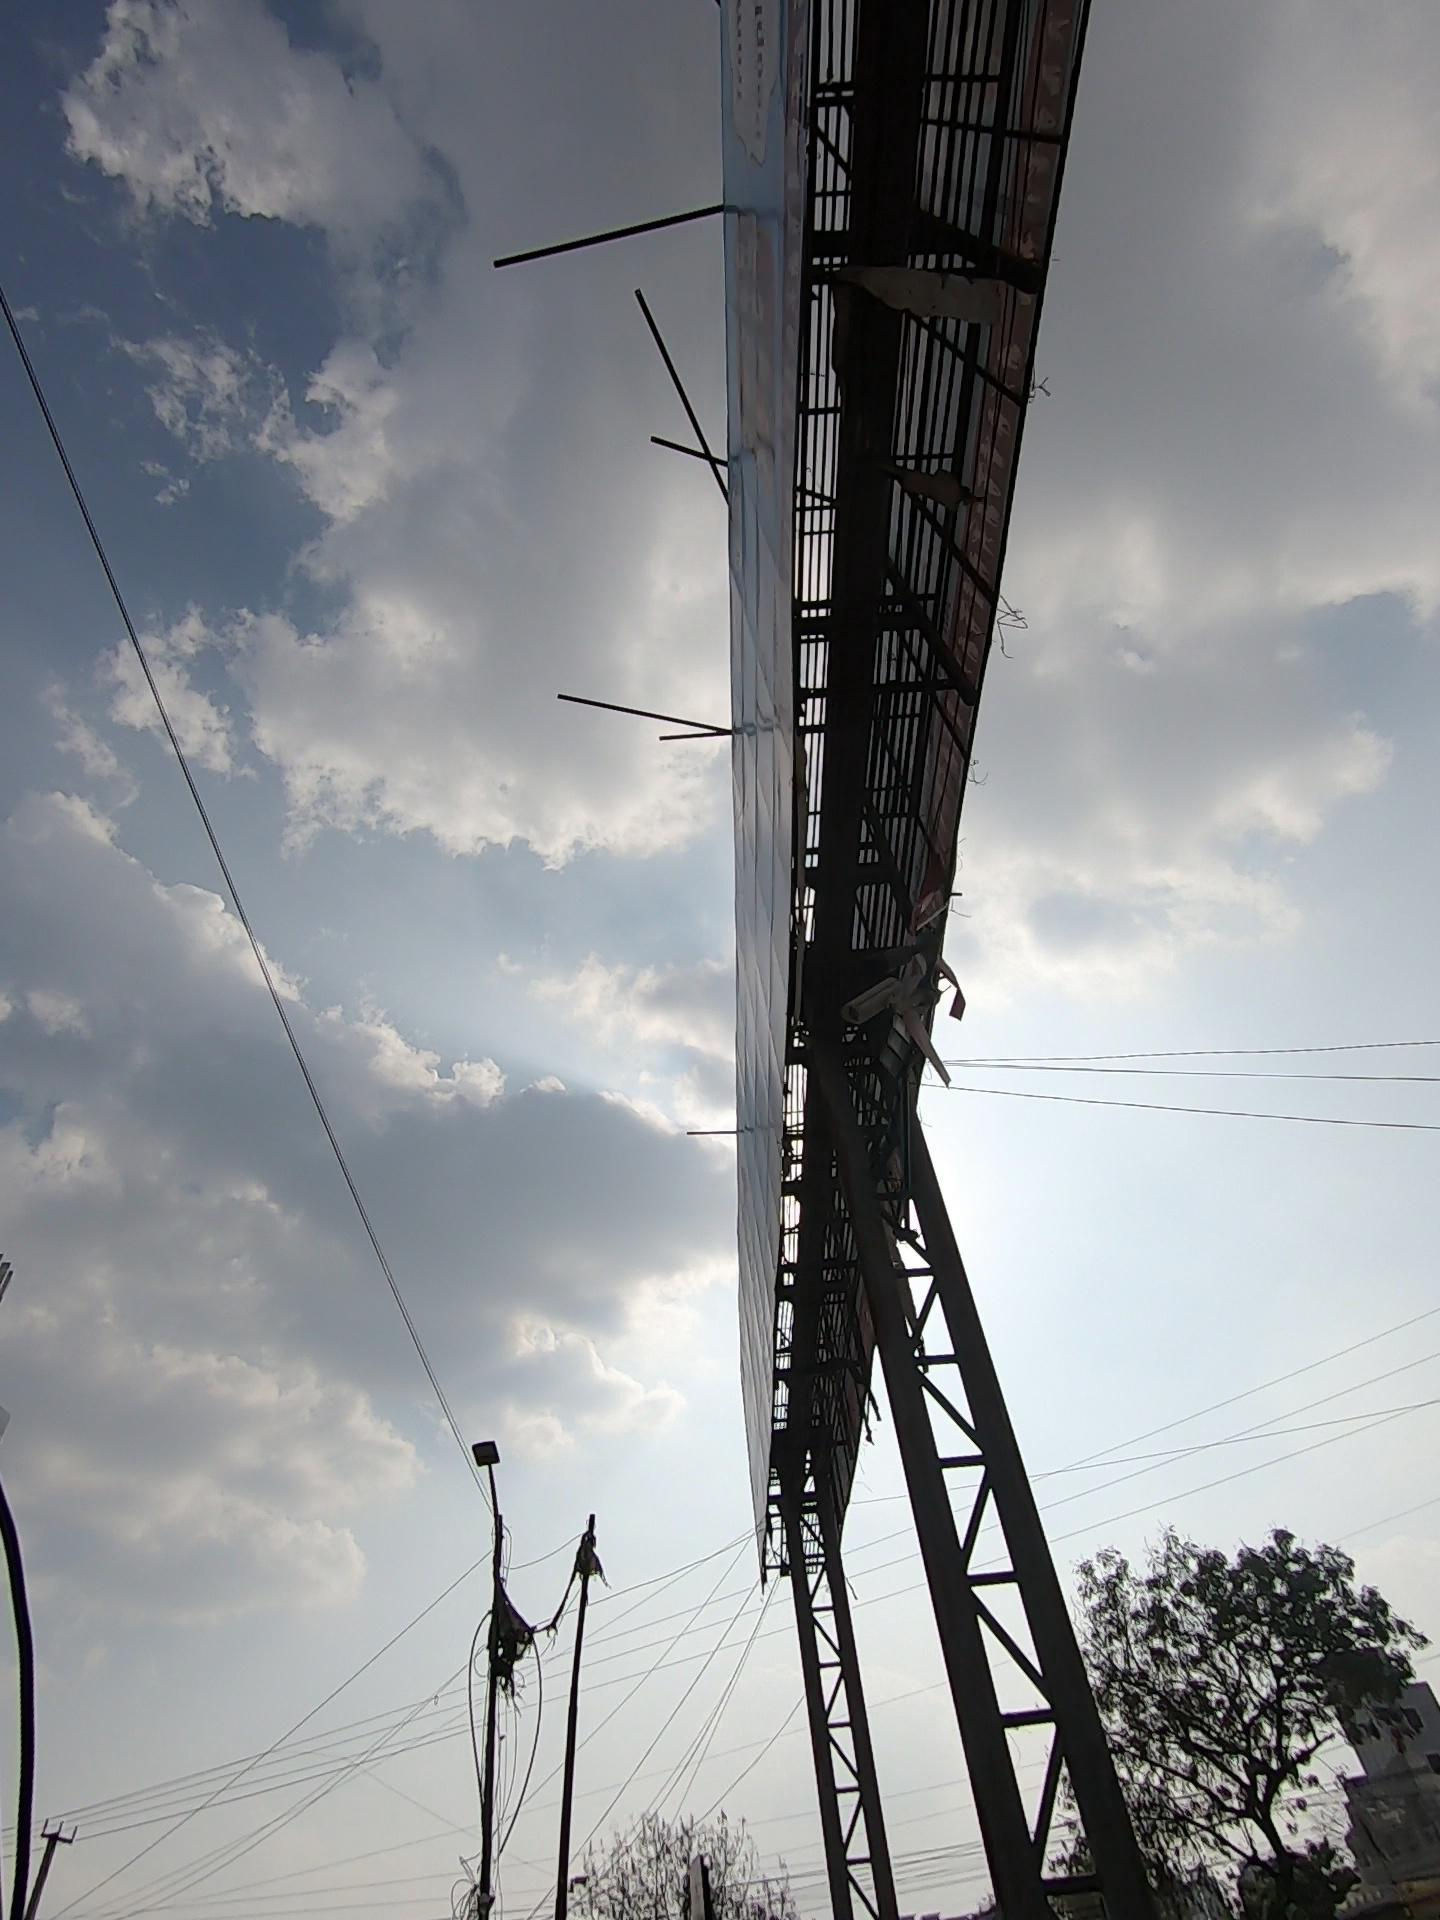off: (386, 1356, 659, 1772)
